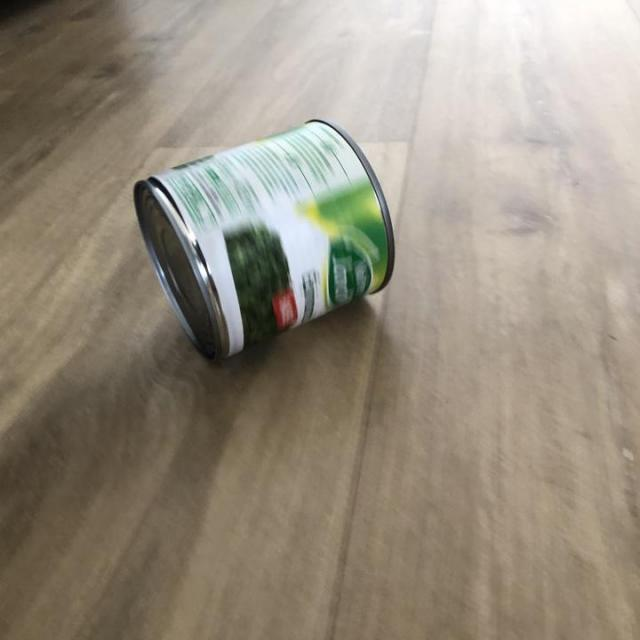recyclable: (130, 112, 400, 372)
